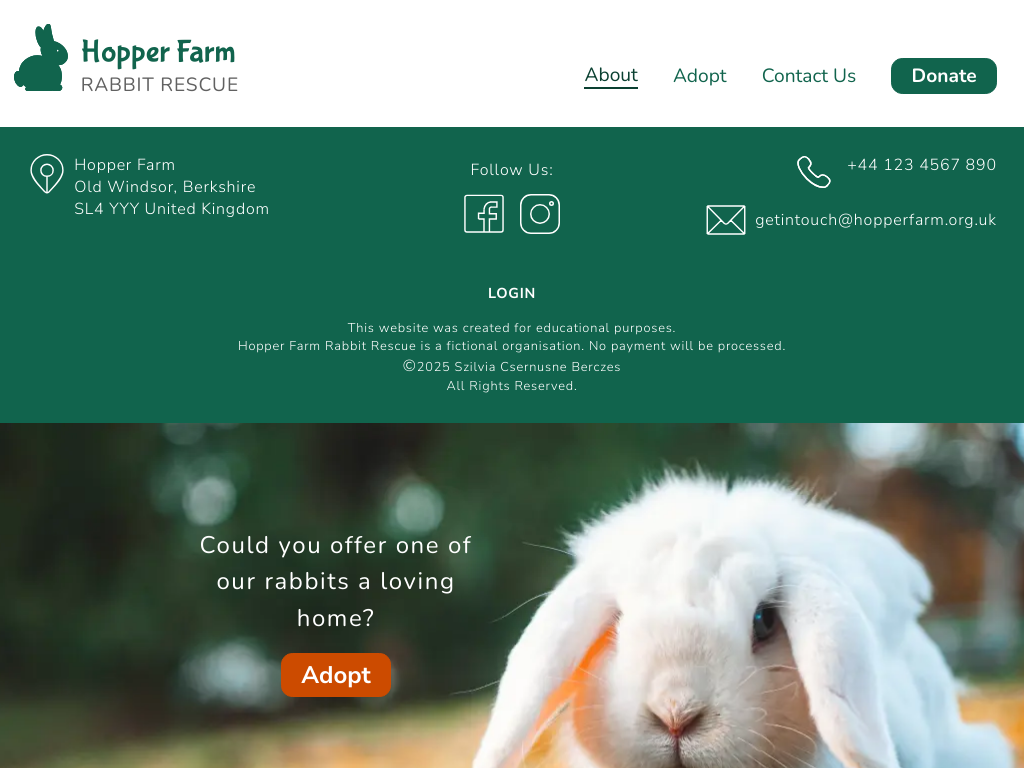
handles error from server
The width and height of the screenshot is (1024, 768).
// go to the adopt page
Step 1. Click the link with test id "adopt-link" → x=700, y=76, box [673, 64, 727, 88]
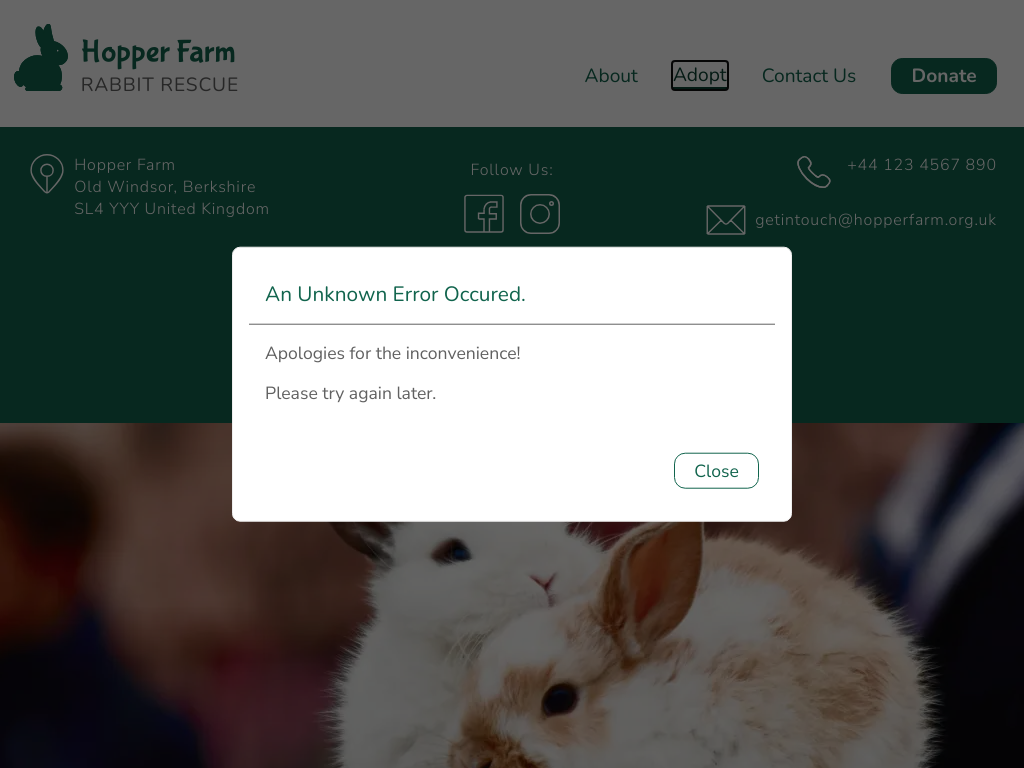
expect the heading "An Unknown Error Occured." is shown: met, box [265, 280, 526, 308]
